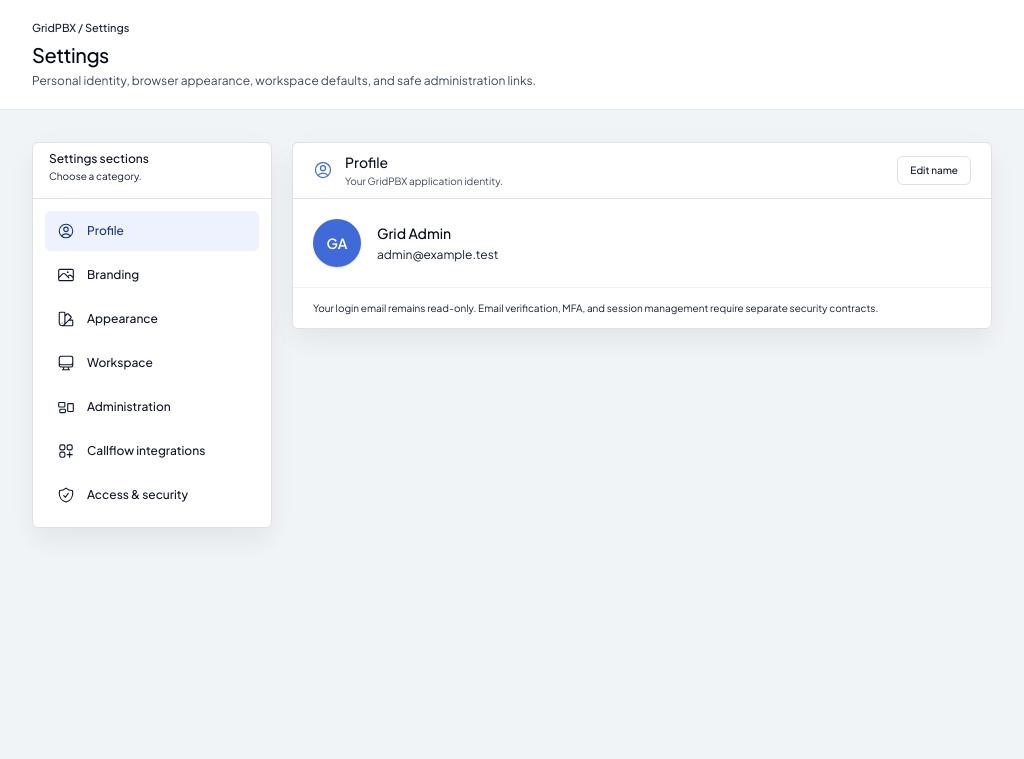
Scenario: SettingsPage › changes the signed-in users password from access and security
The image size is (1024, 759).
Click the tab "Access & security": [152, 494] box [45, 474, 259, 514]
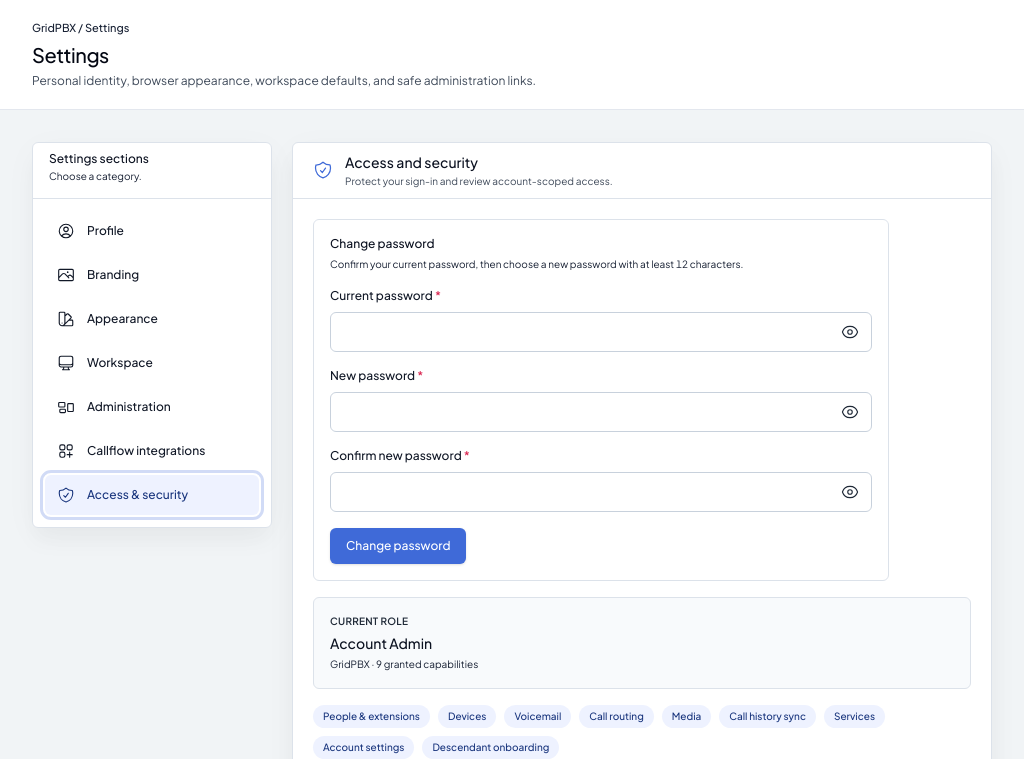
Submit the form named "Change password", box [313, 218, 889, 580]
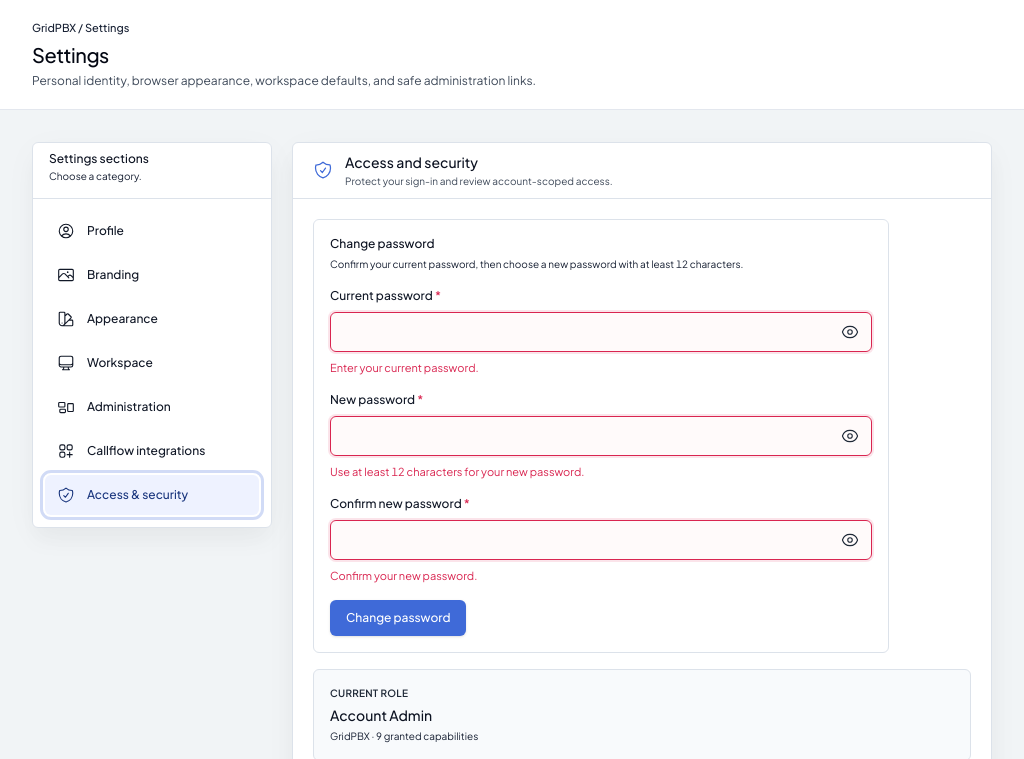
Expected: the text "Enter your current password." is shown, [330, 360, 479, 374]
In the password field named "current_password": [601, 332] box [330, 312, 872, 352], type "current-secure-password"
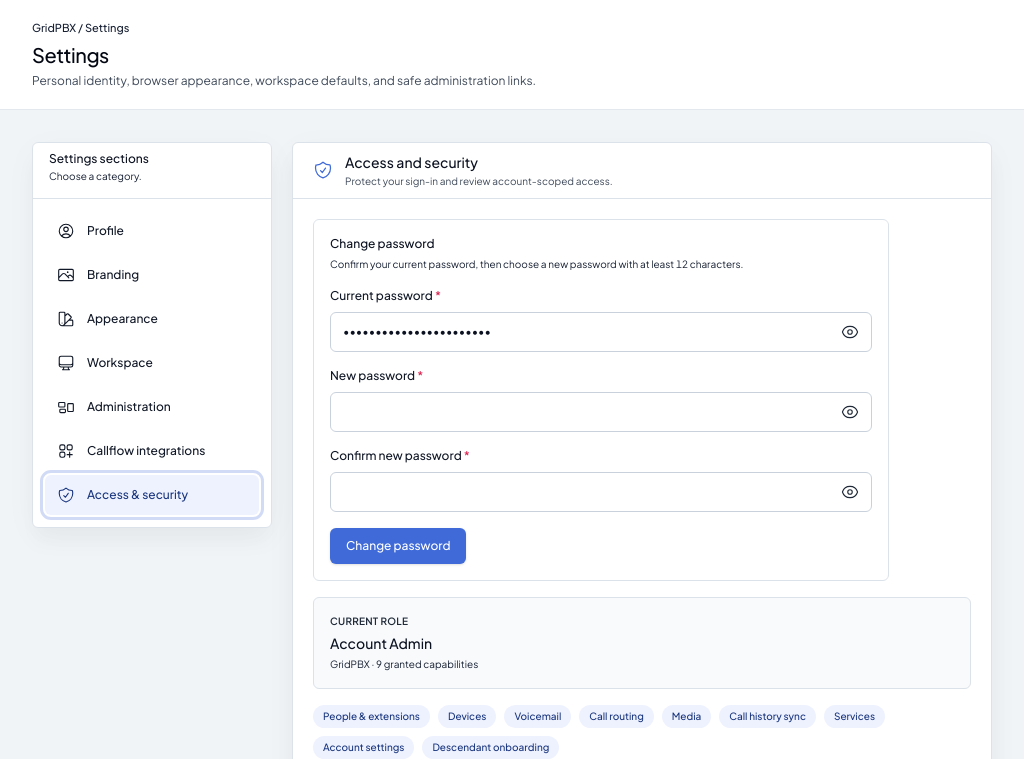
In the password field named "password": [601, 412] box [330, 392, 872, 432], type "new-secure-password"
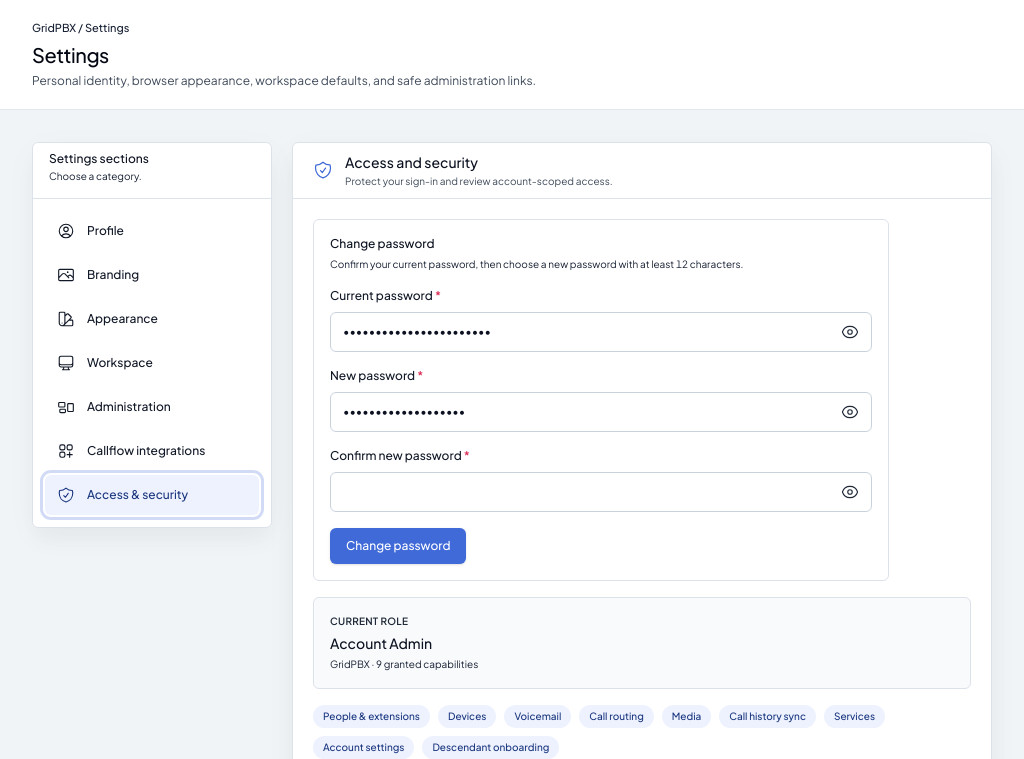
In the password field named "password_confirmation": [601, 492] box [330, 472, 872, 512], type "new-secure-password"
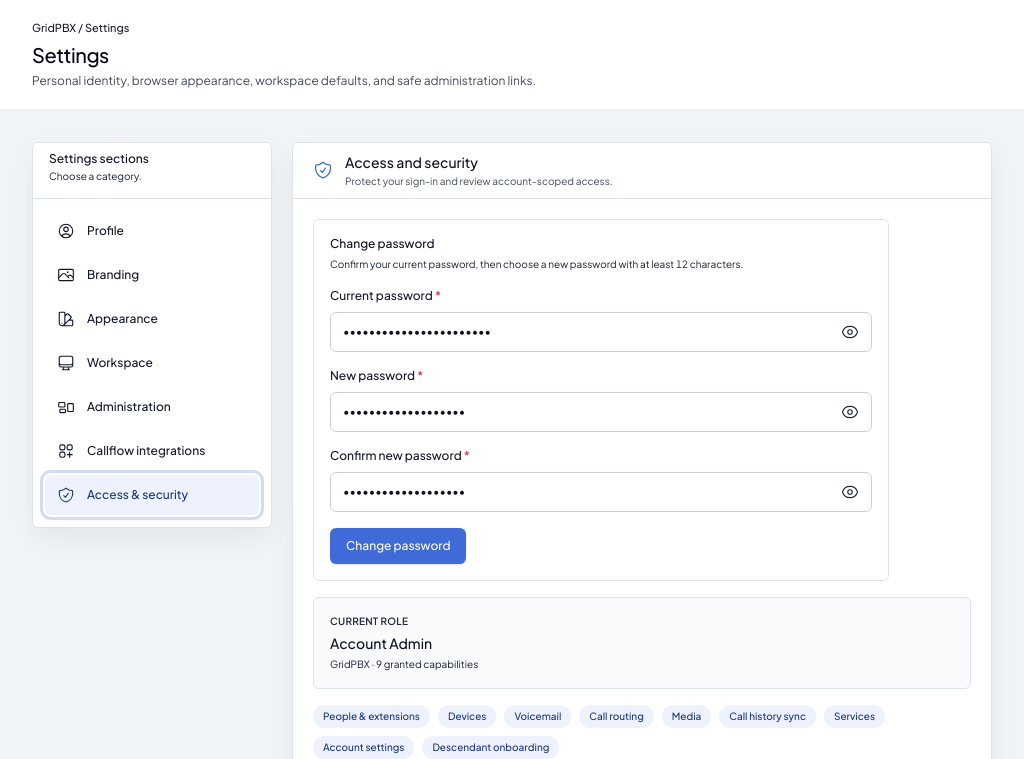
Submit the form named "Change password", box [313, 218, 889, 580]
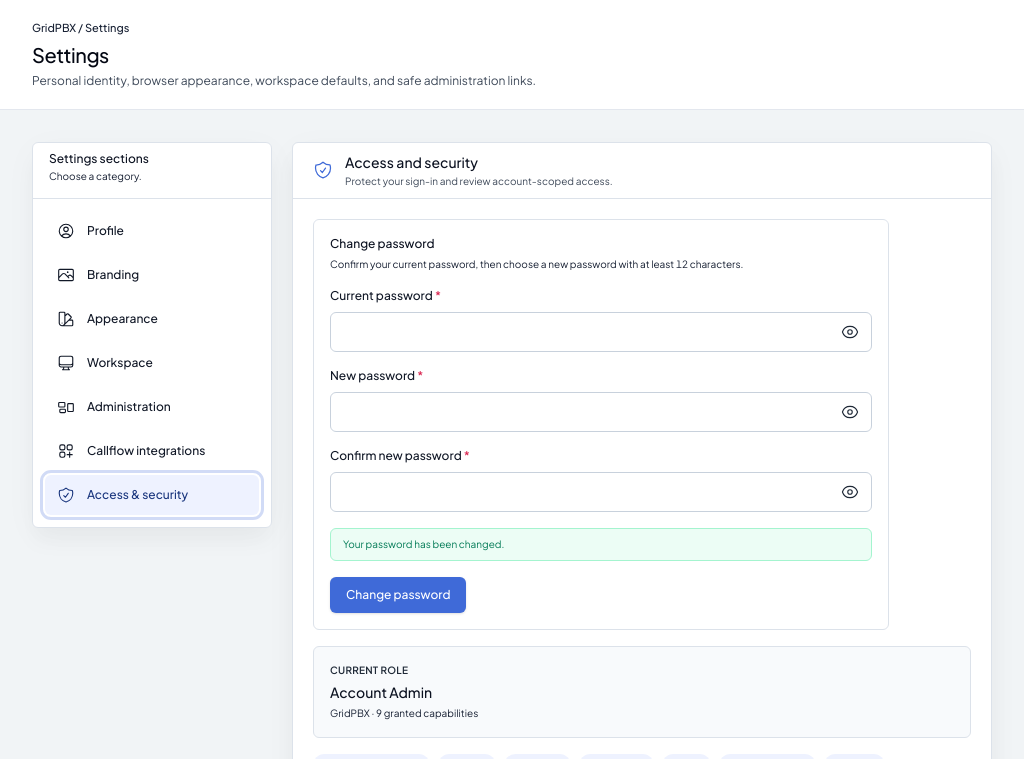
Expected: the text "Your password has been changed." is shown, [330, 528, 872, 560]
Expected: the password field named "current_password" is empty, [330, 312, 872, 352]
Expected: the password field named "password" is empty, [330, 392, 872, 432]
